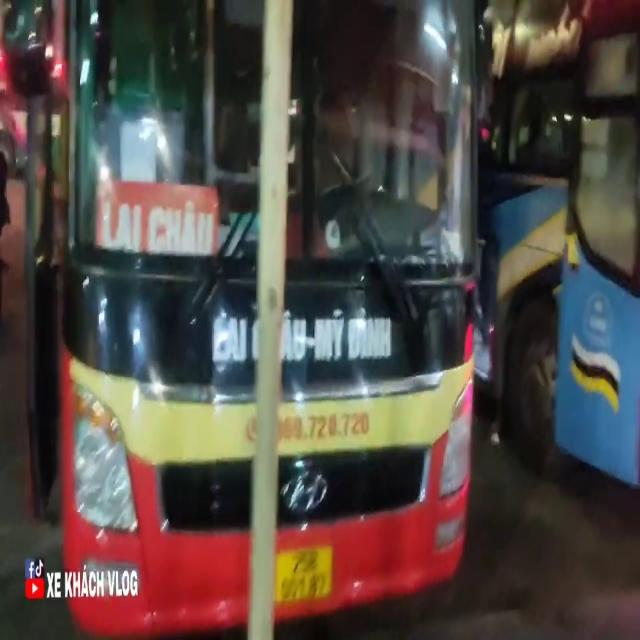bien_vang: (271, 541, 333, 600)
